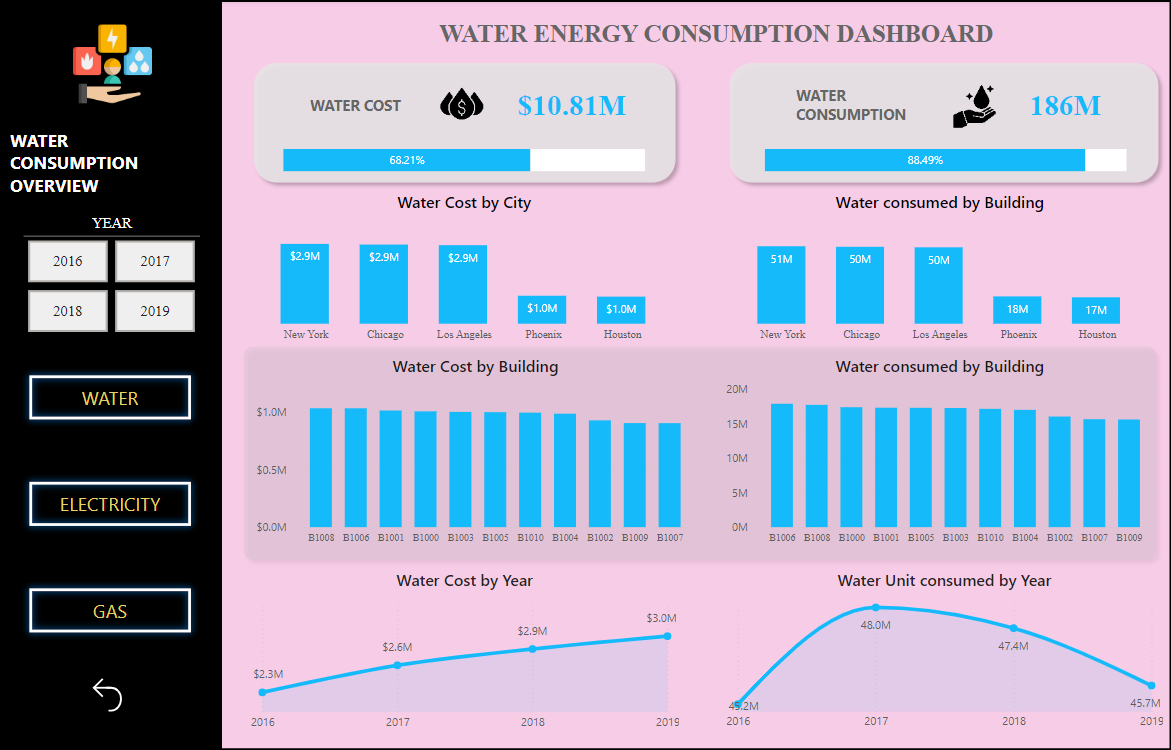

The page's visual inventory and layout, read from the dashboard file:
{"tool":"powerbi","page":{"name":"WATER","canvas":[1280,820],"ordinal":1},"visuals":[{"type":"shape","title":"Total Cost","box":[782.9,60.4,484.9,148.3],"z":0},{"type":"shape","title":"Total Cost","box":[265.1,60.4,476.6,148.3],"z":1000},{"type":"shape","box":[254.8,368.9,1010.7,250.6],"z":2000},{"type":"shape","box":[0,0,240.4,820],"z":3000},{"type":"image","box":[66.3,15.7,108.5,108.5],"z":4000},{"type":"areaChart","fields":{"Category":["Energy Consumptions.Year"],"Y":["All Measures.Water Cost"]},"box":[265.1,619.5,476.6,184.1],"z":5000},{"type":"areaChart","fields":{"Category":["Energy Consumptions.Year"],"Y":["All Measures.Water Unit consumed"]},"box":[782.4,619.5,485.9,183.8],"z":6000},{"type":"columnChart","fields":{"Category":["Energy Consumptions.Building"],"Y":["All Measures.Water Cost"]},"box":[272.9,387,487.3,214.4],"z":7000},{"type":"clusteredColumnChart","title":"Water consumed by Building","fields":{"Category":["Energy Consumptions.Building"],"Y":["All Measures.Water Unit consumed"]},"box":[782.4,387,476.1,214.4],"z":8000},{"type":"columnChart","fields":{"Y":["All Measures.Water Cost"],"Category":["Building Master.City"]},"box":[264.5,208.8,478.9,172],"z":9000},{"type":"clusteredColumnChart","title":"Water consumed by Building","fields":{"Y":["All Measures.Water Unit consumed"],"Category":["Building Master.City"]},"box":[782.4,208.8,476.1,172],"z":10000},{"type":"card","fields":{"Values":["All Measures.Water Cost"]},"box":[501.2,75.2,239.5,76.6],"z":11000},{"type":"card","fields":{"Values":["All Measures.Water Unit consumed"]},"box":[1037.2,75.2,239.5,76.6],"z":12000},{"type":"hundredPercentStackedBarChart","fields":{"Y":["All Measures.Water Cost","All Measures.Water Cost left"]},"box":[302.2,116.8,403.8,108.5],"z":13000},{"type":"hundredPercentStackedBarChart","fields":{"Y":["All Measures.Water Unit consumed","All Measures.Water Unit consumed left"]},"box":[825.5,116.8,403.8,108.5],"z":14000},{"type":"textbox","box":[331.3,100.2,139.2,39],"z":15000},{"type":"textbox","box":[859,87.7,178.2,64],"z":16000},{"type":"textbox","box":[471,16.3,619.5,61.6],"z":17000},{"type":"image","box":[1027.4,87.7,62.6,57.1],"z":18000},{"type":"image","box":[470.6,84.9,62.6,57.1],"z":19000},{"type":"textbox","box":[5.4,135.9,235.5,88.8],"z":20000},{"type":"actionButton","box":[23.2,401.1,191.8,63.9],"z":21000},{"type":"actionButton","box":[23.2,516.9,191.8,63.9],"z":22000},{"type":"actionButton","box":[23.2,632.7,191.8,63.9],"z":23000},{"type":"actionButton","box":[91.9,732.3,64,48.7],"z":24000},{"type":"advancedSlicerVisual","title":"YEAR","fields":{"Values":["Energy Consumptions.Year"]},"box":[23.7,235.3,192.1,133.7],"z":25000}]}

Visuals, with their boxes on the page's 1280x820 design canvas (x1, y1, x2, y2). These are canvas units, not pixel positions in the 1171x750 screenshot, which may show the page scaled, cropped or inside an application window:
"Total Cost" shape: select_region(783, 60, 1268, 209)
"Total Cost" shape: select_region(265, 60, 742, 209)
shape: select_region(255, 369, 1266, 620)
shape: select_region(0, 0, 240, 820)
image: select_region(66, 16, 175, 124)
areaChart - Energy Consumptions.Year x All Measures.Water Cost: select_region(265, 620, 742, 804)
areaChart - Energy Consumptions.Year x All Measures.Water Unit consumed: select_region(782, 620, 1268, 803)
columnChart - Energy Consumptions.Building x All Measures.Water Cost: select_region(273, 387, 760, 601)
"Water consumed by Building" clusteredColumnChart: select_region(782, 387, 1258, 601)
columnChart - All Measures.Water Cost x Building Master.City: select_region(264, 209, 743, 381)
"Water consumed by Building" clusteredColumnChart: select_region(782, 209, 1258, 381)
card - All Measures.Water Cost: select_region(501, 75, 741, 152)
card - All Measures.Water Unit consumed: select_region(1037, 75, 1277, 152)
hundredPercentStackedBarChart - All Measures.Water Cost x All Measures.Water Cost left: select_region(302, 117, 706, 225)
hundredPercentStackedBarChart - All Measures.Water Unit consumed x All Measures.Water Unit consumed left: select_region(826, 117, 1229, 225)
textbox: select_region(331, 100, 470, 139)
textbox: select_region(859, 88, 1037, 152)
textbox: select_region(471, 16, 1090, 78)
image: select_region(1027, 88, 1090, 145)
image: select_region(471, 85, 533, 142)
textbox: select_region(5, 136, 241, 225)
actionButton: select_region(23, 401, 215, 465)
actionButton: select_region(23, 517, 215, 581)
actionButton: select_region(23, 633, 215, 697)
actionButton: select_region(92, 732, 156, 781)
"YEAR" advancedSlicerVisual: select_region(24, 235, 216, 369)
